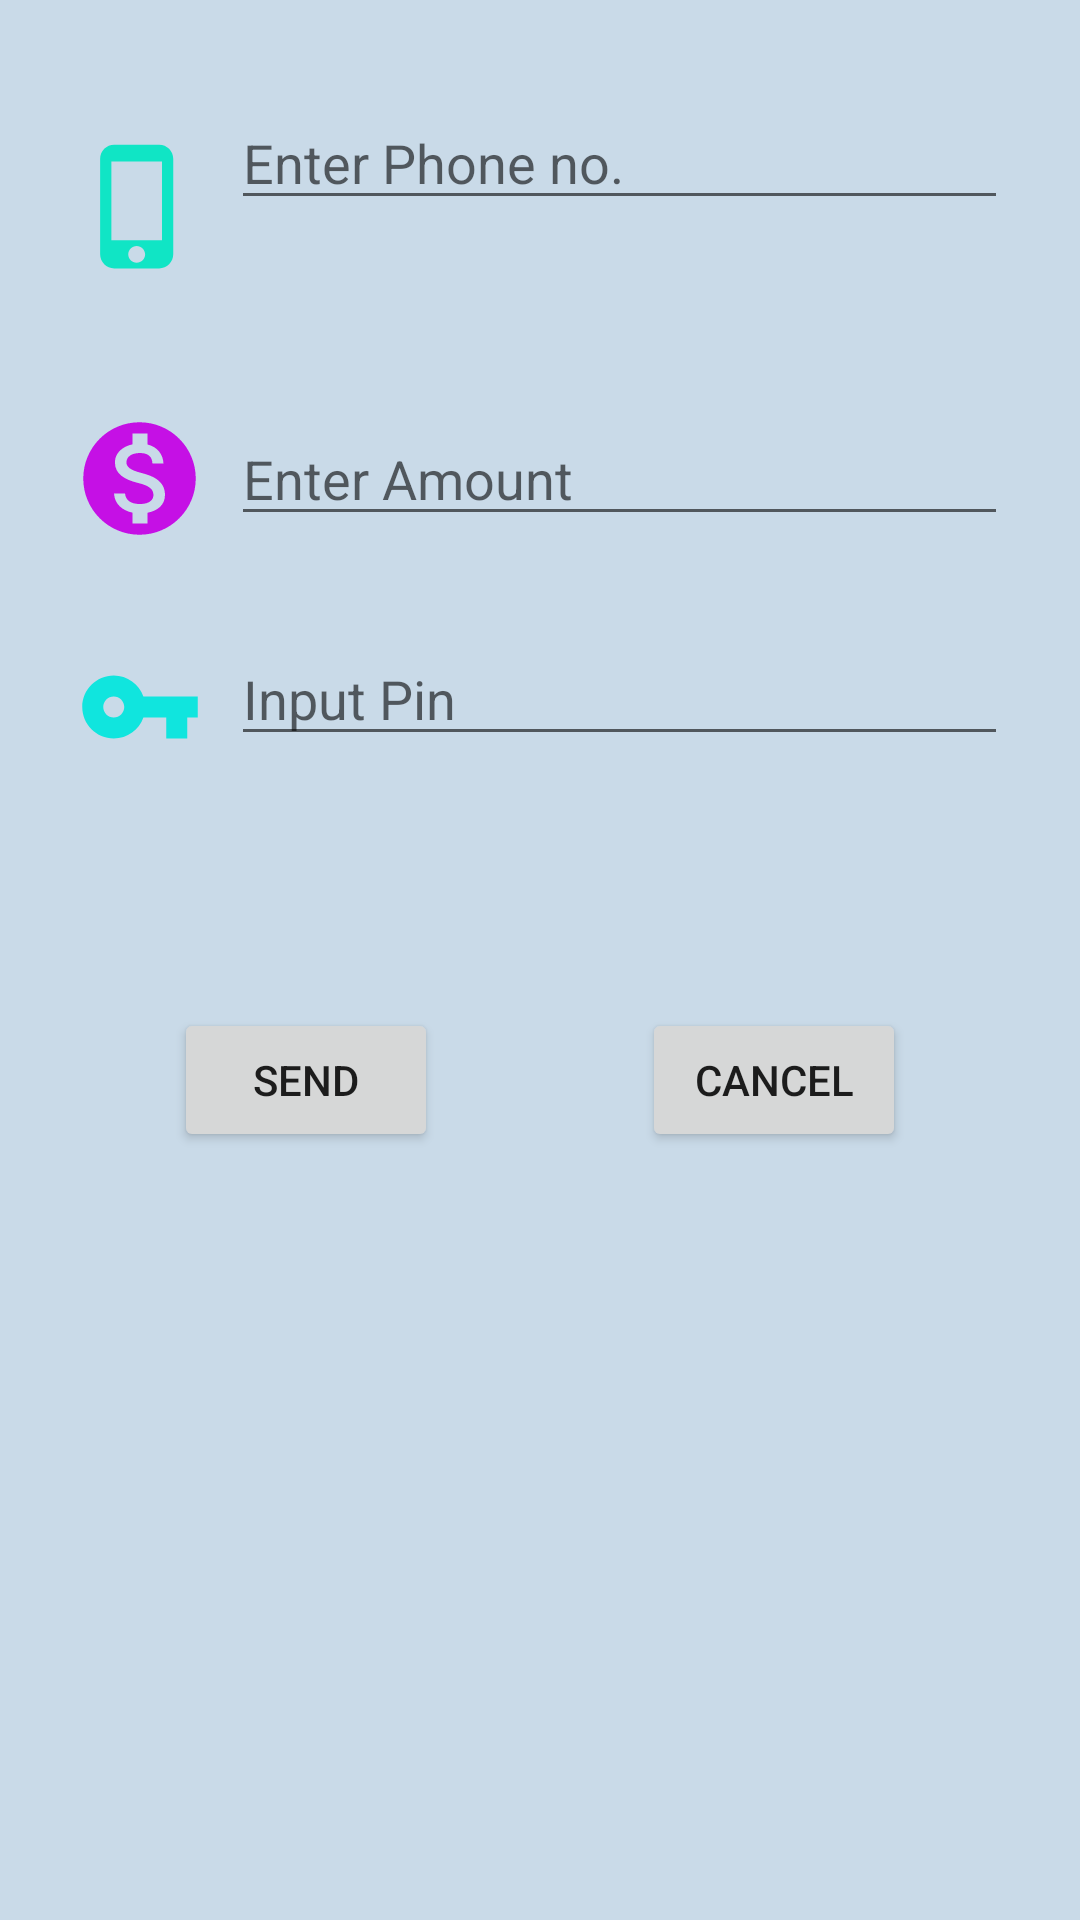

Icons on this 1080px×1920px Android screen, each with its box as (x1, y1, x2, y2):
monetization on: (83, 422, 196, 535)
phone iphone: (100, 144, 174, 269)
vpn key: (82, 675, 198, 739)
